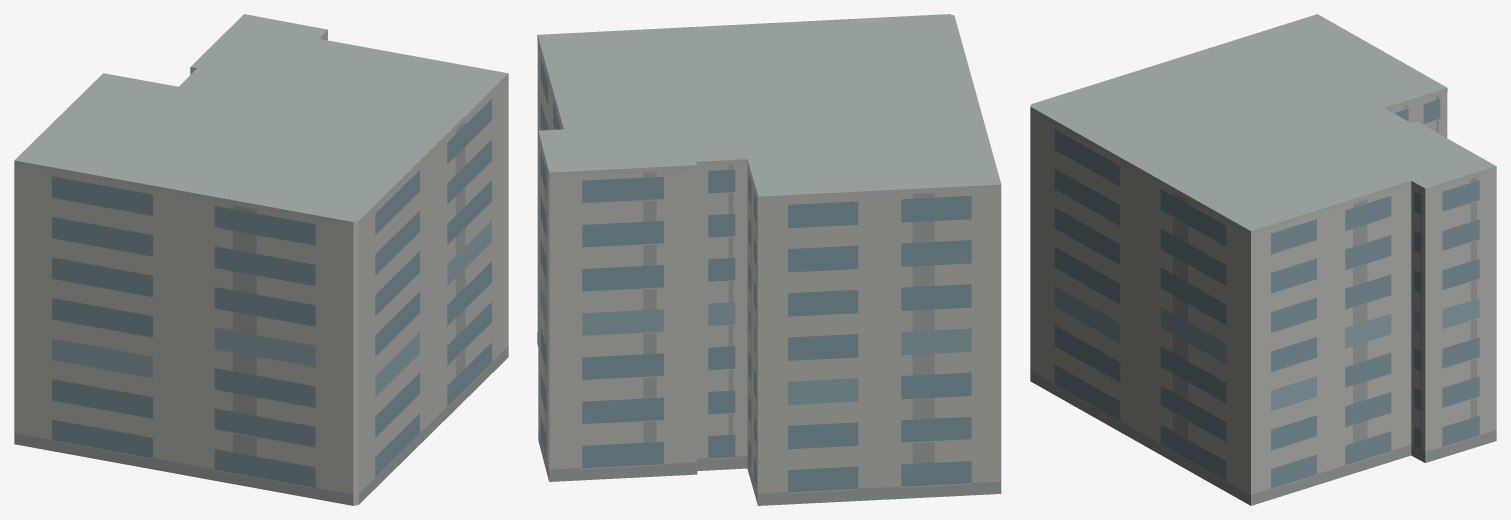
File: survey-upis-32658352.glb
3 renders of one model, left to right at view 1: azimuth 30°, elevation 25°; view 2: azimuth 150°, elevation 25°; view 3: azimuth 270°, elevation 25°, orthographic. The views are drawn at different scales.
Parts seen in each view (by area): view 1: survey-upis-32658352.tmp; view 2: survey-upis-32658352.tmp; view 3: survey-upis-32658352.tmp.
Boxes of the visible parts, x1,y1,x2,y2 form: survey-upis-32658352.tmp: [14, 14, 508, 505]; survey-upis-32658352.tmp: [537, 14, 1001, 505]; survey-upis-32658352.tmp: [1030, 14, 1496, 505].
Bounding box in the file's own units: 24.77 × 14.6 × 22.47.
